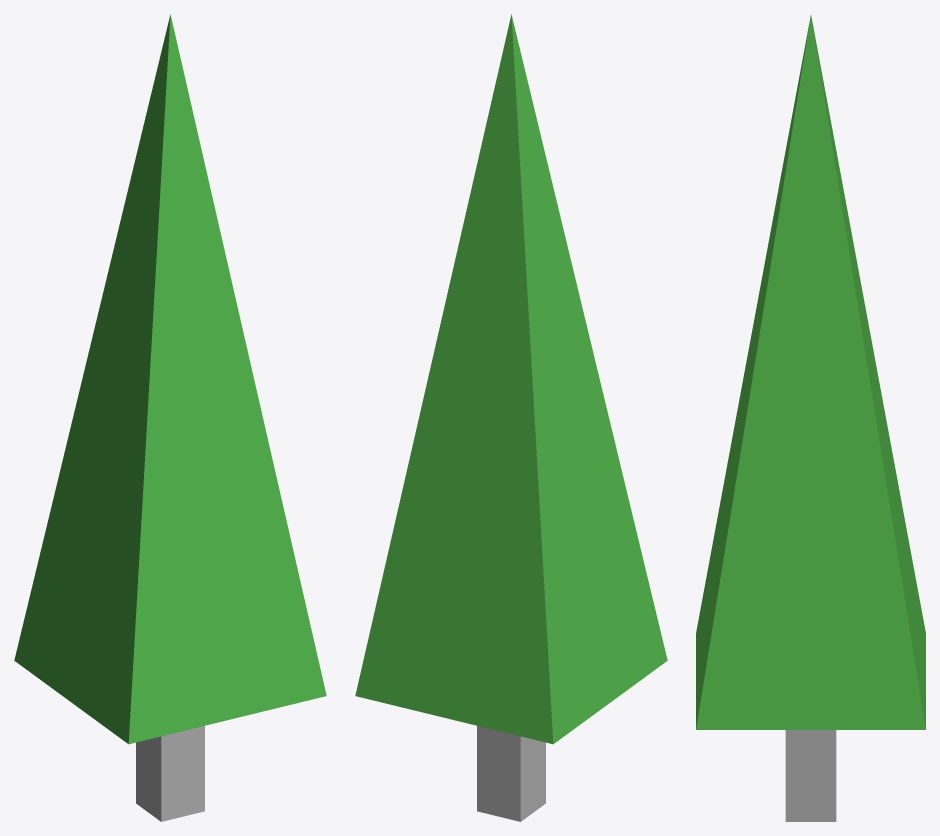
File: Pine.obj
3 views of the same model, side by side, from view 1: azimuth 30°, elevation 25°; view 2: azimuth 150°, elevation 25°; view 3: azimuth 270°, elevation 25° (orthographic).
Visible parts, largest first — view 1: Cube; view 2: Cube; view 3: Cube.
Boxes of the visible parts, <box> form: Cube: <box>14,14,326,821</box>; Cube: <box>355,14,667,821</box>; Cube: <box>696,15,925,821</box>.
Size of the model in its own units: 2 by 7.66 by 2.
